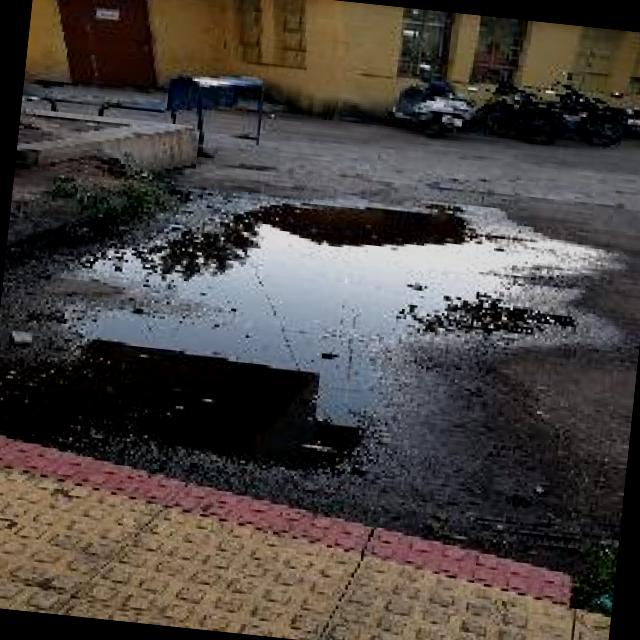stagnation: (0, 158, 634, 509)
